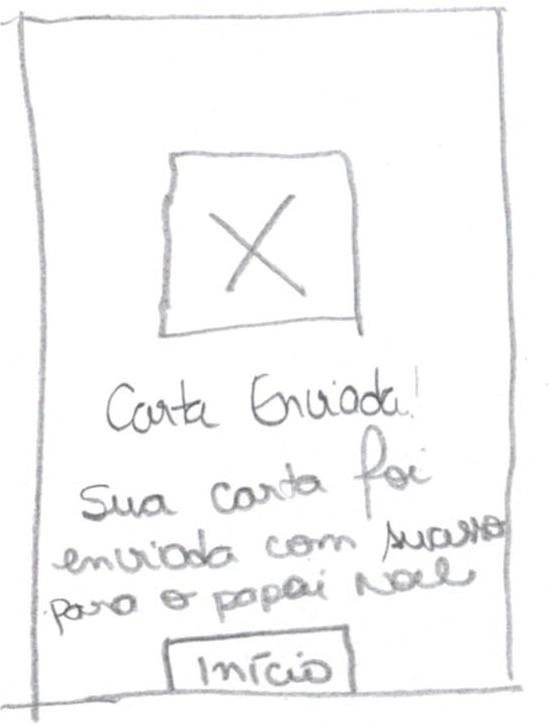Button: (163, 624, 356, 696)
Image: (156, 149, 360, 338)
Label: (49, 425, 505, 637), (105, 361, 423, 434)
Screen: (18, 8, 514, 706)
